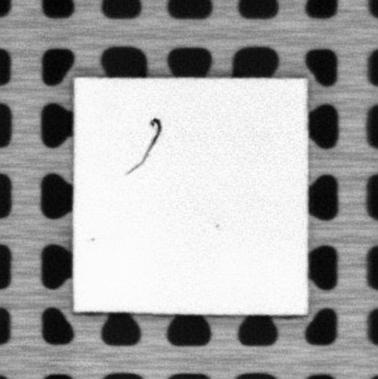DIE_INK: (124, 118, 164, 175), (88, 235, 98, 244)
